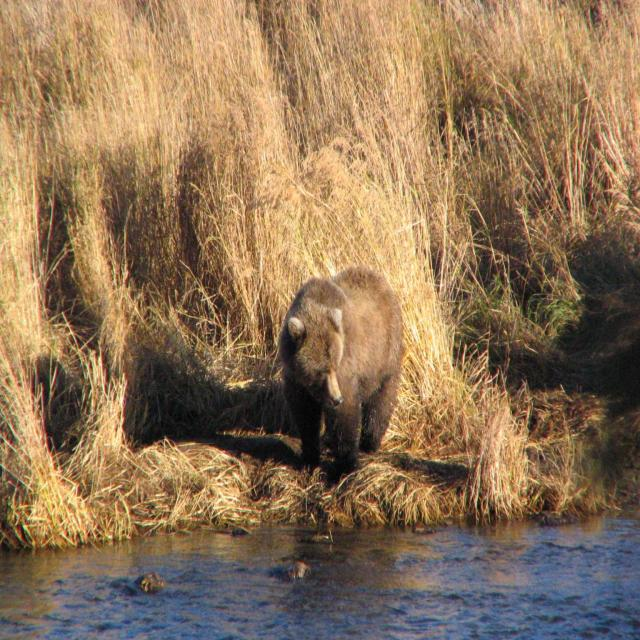bear face: (285, 268, 401, 459)
